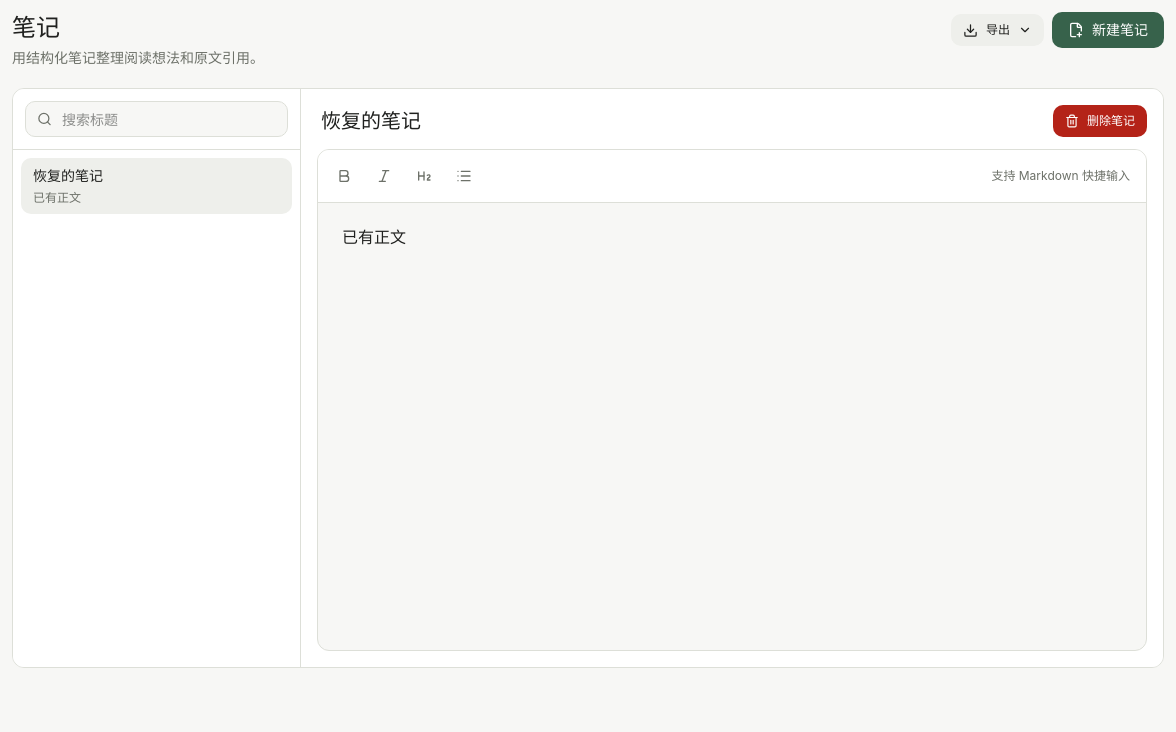
Test case: NotesPage › preserves the draft and offers retry after a save failure
Clear the field named "笔记标题": [673, 121] box [317,107,1029,135]
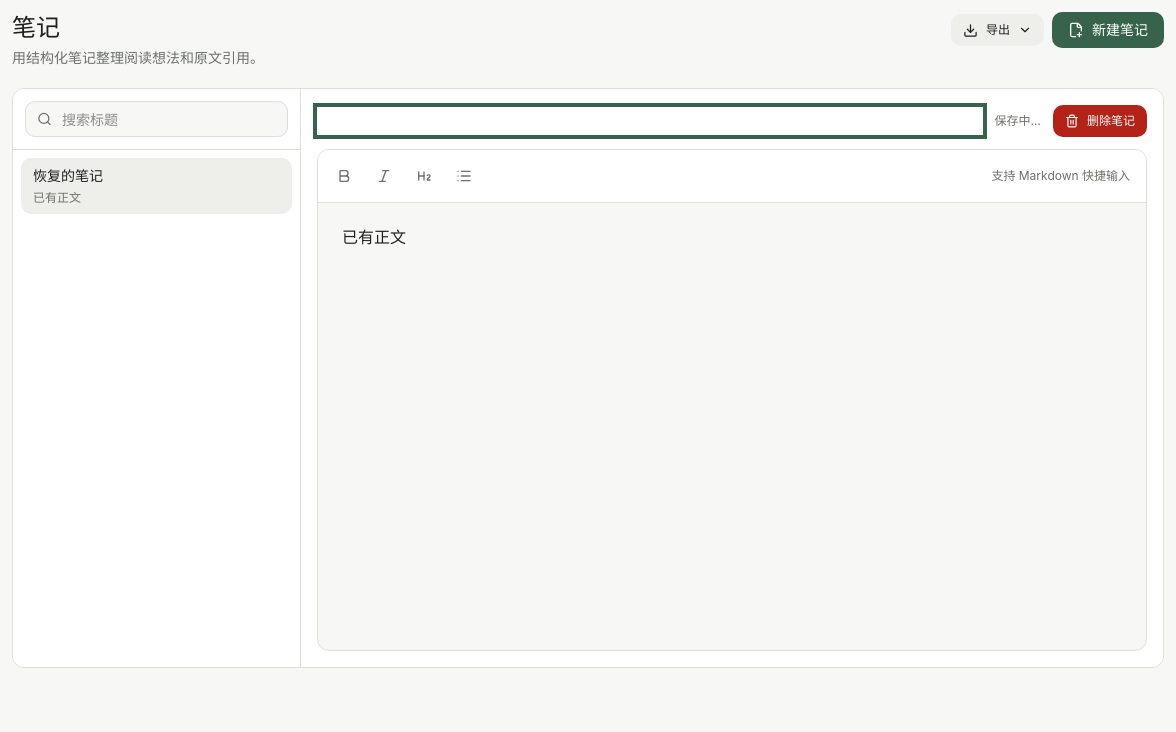
In the field named "笔记标题": [650, 121] box [317,107,983,135], type "失败后保留的标题"
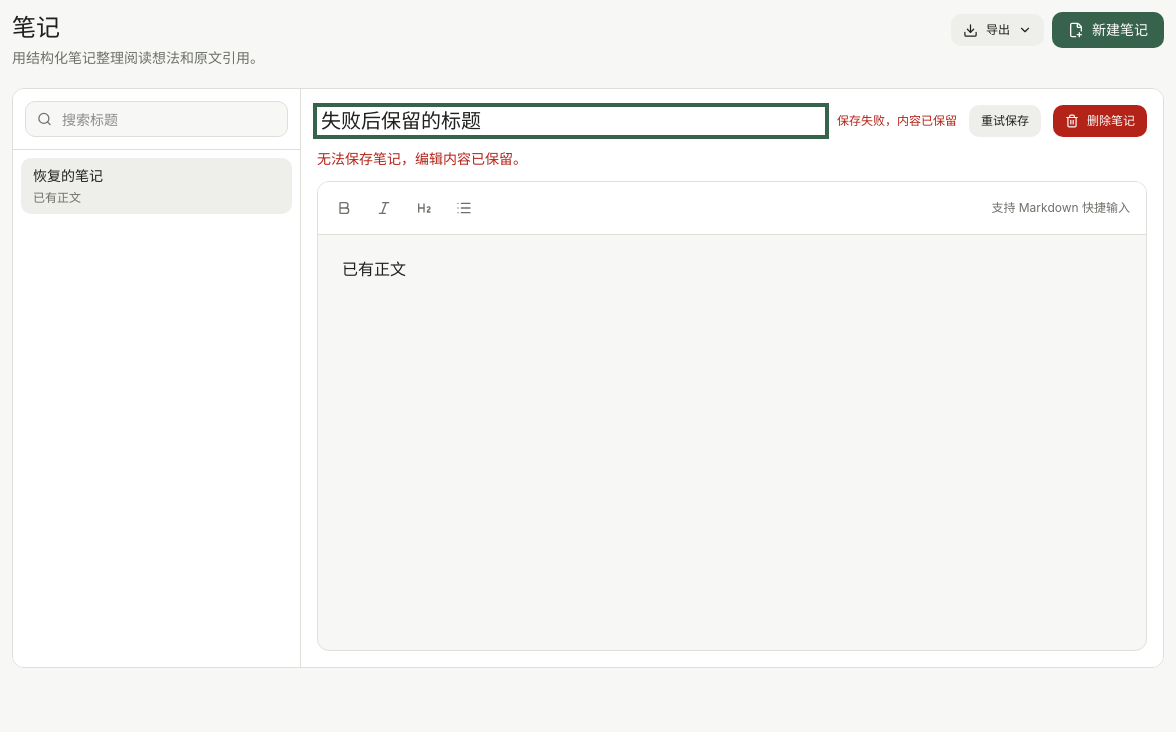
expect the text "保存失败，内容已保留" is shown: met, box [837,113,957,129]
expect the button "重试保存" is shown: met, box [969,105,1041,137]
